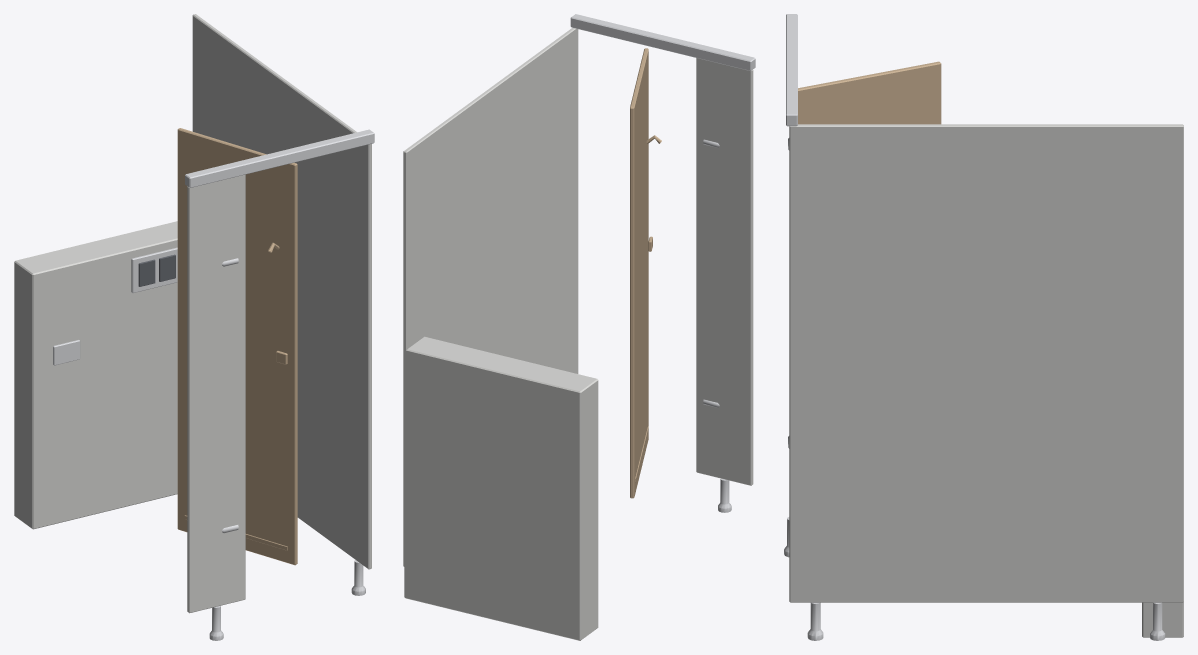
Rendered from office-lobby-and-facilities-wc-cubicle-module-open-823c4d95__26174.glb.
3 renders of one model, left to right at view 1: azimuth 30°, elevation 25°; view 2: azimuth 150°, elevation 25°; view 3: azimuth 270°, elevation 25°, orthographic. The views are drawn at different scales.
Parts seen in each view (by area): view 1: wc-cubicle-module-open, cubicle-door; view 2: wc-cubicle-module-open, cubicle-door; view 3: wc-cubicle-module-open, cubicle-door.
Part boxes in pixels (x1,y1,x2,y2): wc-cubicle-module-open: (14, 14, 374, 640); cubicle-door: (177, 128, 297, 565); wc-cubicle-module-open: (403, 14, 755, 640); cubicle-door: (630, 48, 661, 498); wc-cubicle-module-open: (784, 14, 1183, 640); cubicle-door: (798, 61, 941, 124).
Bounding box in the file's own units: 0.925 × 2.2 × 1.52.
